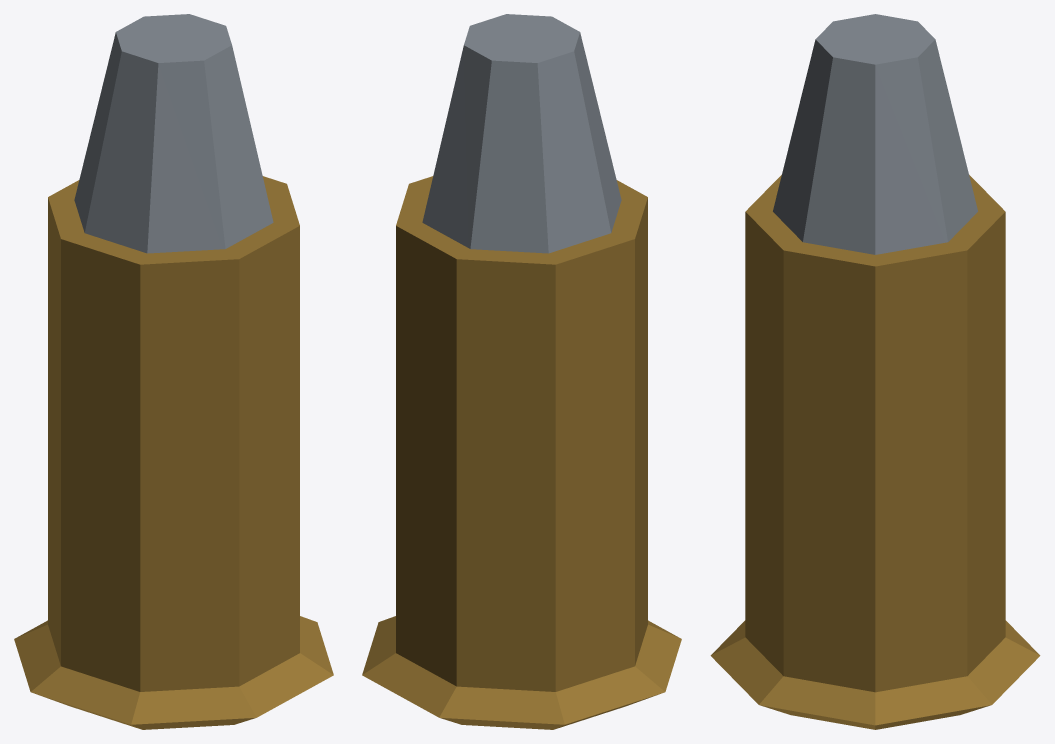
Rendered from cartridge-slug.lod.glb.
3 views of the same model, side by side, from view 1: azimuth 30°, elevation 25°; view 2: azimuth 150°, elevation 25°; view 3: azimuth 270°, elevation 25° (orthographic).
Parts seen in each view (by area): view 1: m; view 2: m; view 3: m.
Part boxes in pixels (x1,y1,x2,y2): m: (14, 14, 333, 729); m: (362, 14, 681, 729); m: (710, 14, 1040, 729).
Bounding box in the file's own units: 0.028 × 0.06 × 0.028.
